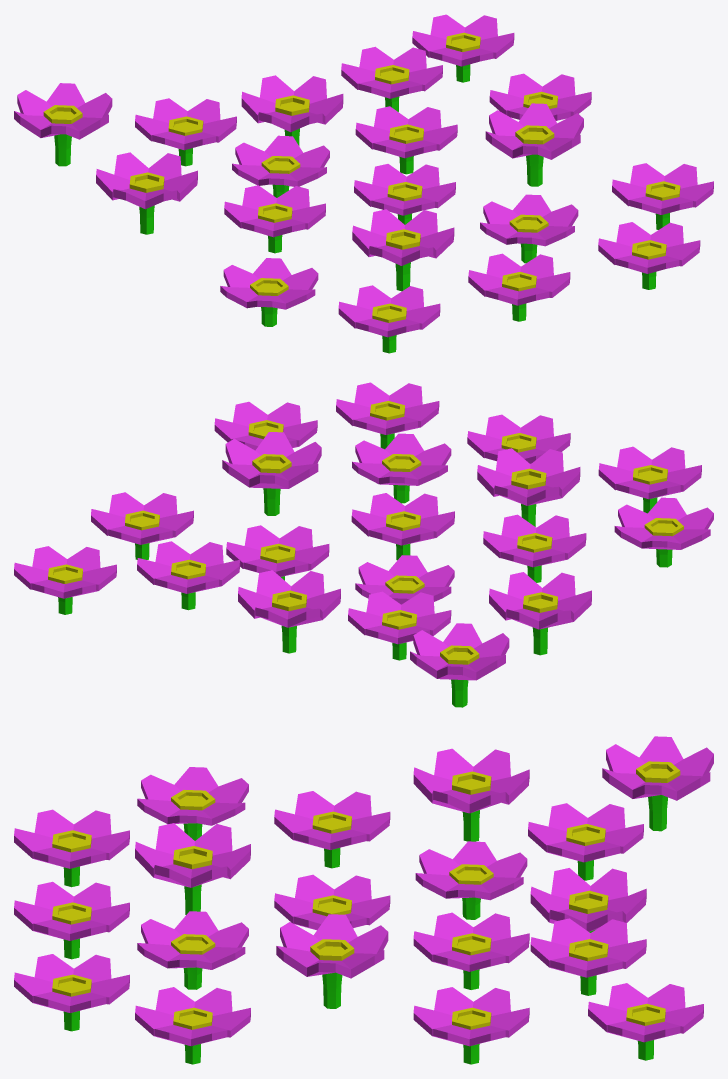
File: Flower_1.fbx
The picture shows the model from 3 angles, top to bottom: view 1: azimuth 30°, elevation 25°; view 2: azimuth 150°, elevation 25°; view 3: azimuth 270°, elevation 25°; orthographic projection. The views are drawn at different scales.
Visible parts, largest first — view 1: Blume; view 2: Blume; view 3: Blume.
Boxes of the visible parts, x1,y1,x2,y2 form: Blume: (14,14,713,353); Blume: (14,382,713,707); Blume: (14,736,713,1064).
Size of the model in its own units: 371 by 59.12 by 410.
